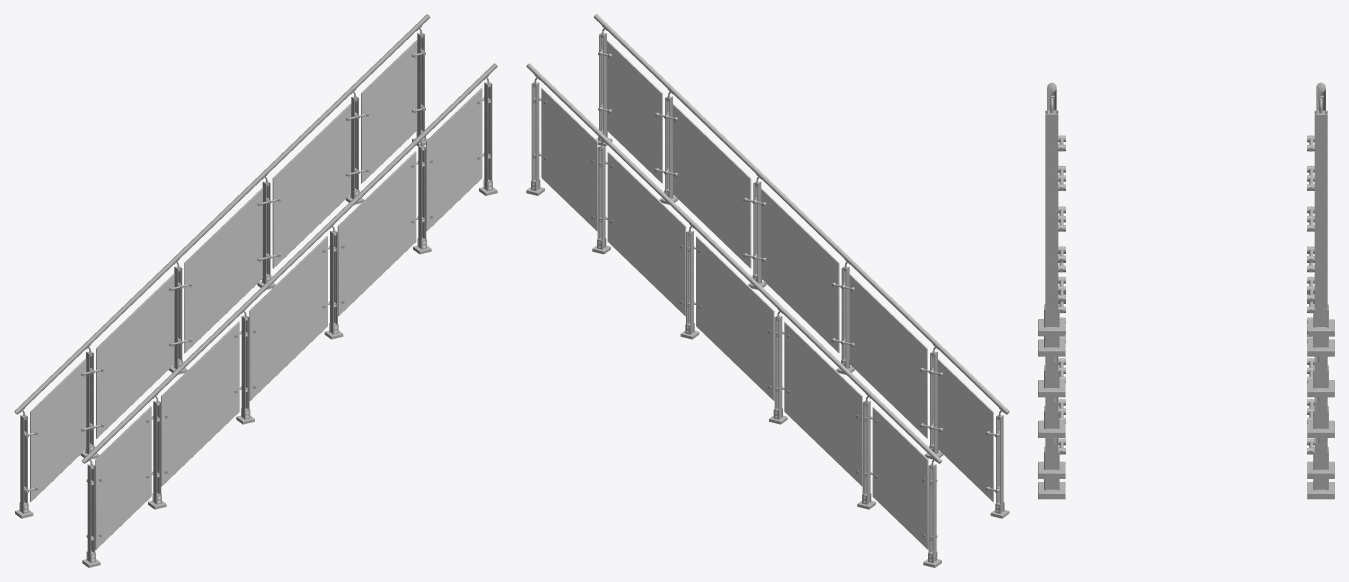
Rendered from Straight_Railing_Ferric_Glass.gltf.
The picture shows the model from 3 angles, left to right: view 1: azimuth 30°, elevation 25°; view 2: azimuth 150°, elevation 25°; view 3: azimuth 270°, elevation 25°; orthographic projection. The views are drawn at different scales.
Parts seen in each view (by area): view 1: Glass Panel_019, Glass Panel_020, Glass Panel_026, Glass Panel_024, Glass Panel_025, Glass Panel_023, Glass Panel_027, Glass Panel_022, Glass Panel_018, Glass Panel_021, Nested_Bend Bend [8719267]004, Nested_Bend Bend [8719267]001 (+2 smaller); view 2: Glass Panel_020, Glass Panel_019, Glass Panel_025, Glass Panel_023, Glass Panel_024, Glass Panel_026, Glass Panel_021, Glass Panel_018, Glass Panel_027, Glass Panel_022, Nested_Bend Bend [8719267]001, Nested_Bend Bend [8719267]004 (+2 smaller); view 3: FER008 - Ferric Post Material Part [8913558], FER008 - Ferric Post Material Part [8913781], FER008 - Ferric Post Material Part [8914136]001, FER008 - Ferric Post Material Part [8913422]001, FER008 - Ferric Post Material Part [8914136], FER008 - Ferric Post Material Part [8913422], CSQ001-US - Surface Mount Weldment Part [8723797]215, CSQ001-US - Surface Mount Weldment Part [8723797]204, FER008 - Ferric Post Material Part [8913928], FER008 - Ferric Post Material Part [8913716], CSQ001-US - Surface Mount Weldment Part [8723797]213, CSQ001-US - Surface Mount Weldment Part [8723797]211 (+4 smaller).
Boxes of the visible parts, box(x1,y1,x2,y2) form: Glass Panel_019: box(272, 103, 351, 268); Glass Panel_020: box(337, 151, 416, 316); Glass Panel_026: box(161, 321, 239, 486); Glass Panel_024: box(249, 236, 327, 400); Glass Panel_025: box(96, 273, 174, 438); Glass Panel_023: box(184, 188, 262, 352); Glass Panel_027: box(95, 406, 151, 549); Glass Panel_022: box(426, 87, 482, 231); Glass Panel_018: box(30, 358, 86, 501); Glass Panel_021: box(361, 40, 417, 183); Nested_Bend Bend [8719267]004: box(15, 207, 229, 413); Nested_Bend Bend [8719267]001: box(82, 256, 296, 463); Glass Panel_020: box(672, 103, 751, 268); Glass Panel_019: box(607, 151, 686, 316); Glass Panel_025: box(784, 321, 862, 486); Glass Panel_023: box(696, 236, 774, 400); Glass Panel_024: box(761, 188, 839, 352); Glass Panel_026: box(849, 273, 927, 438); Glass Panel_021: box(541, 87, 597, 231); Glass Panel_018: box(872, 406, 928, 549); Glass Panel_027: box(937, 358, 993, 501); Glass Panel_022: box(606, 40, 662, 183); Nested_Bend Bend [8719267]001: box(794, 207, 1008, 413); Nested_Bend Bend [8719267]004: box(727, 256, 941, 463); FER008 - Ferric Post Material Part [8913558]: box(1045, 113, 1058, 326); FER008 - Ferric Post Material Part [8913781]: box(1314, 114, 1327, 326); FER008 - Ferric Post Material Part [8914136]001: box(1314, 397, 1327, 428); FER008 - Ferric Post Material Part [8913422]001: box(1045, 397, 1058, 428); FER008 - Ferric Post Material Part [8914136]: box(1314, 438, 1327, 469); FER008 - Ferric Post Material Part [8913422]: box(1045, 438, 1058, 469); CSQ001-US - Surface Mount Weldment Part [8723797]215: box(1307, 482, 1334, 499); CSQ001-US - Surface Mount Weldment Part [8723797]204: box(1038, 482, 1065, 499); FER008 - Ferric Post Material Part [8913928]: box(1314, 356, 1327, 387); FER008 - Ferric Post Material Part [8913716]: box(1045, 356, 1058, 387); CSQ001-US - Surface Mount Weldment Part [8723797]213: box(1307, 380, 1334, 397); CSQ001-US - Surface Mount Weldment Part [8723797]211: box(1307, 339, 1334, 356).
Size of the model in its own units: 3.75 by 3.48 by 1.16.
